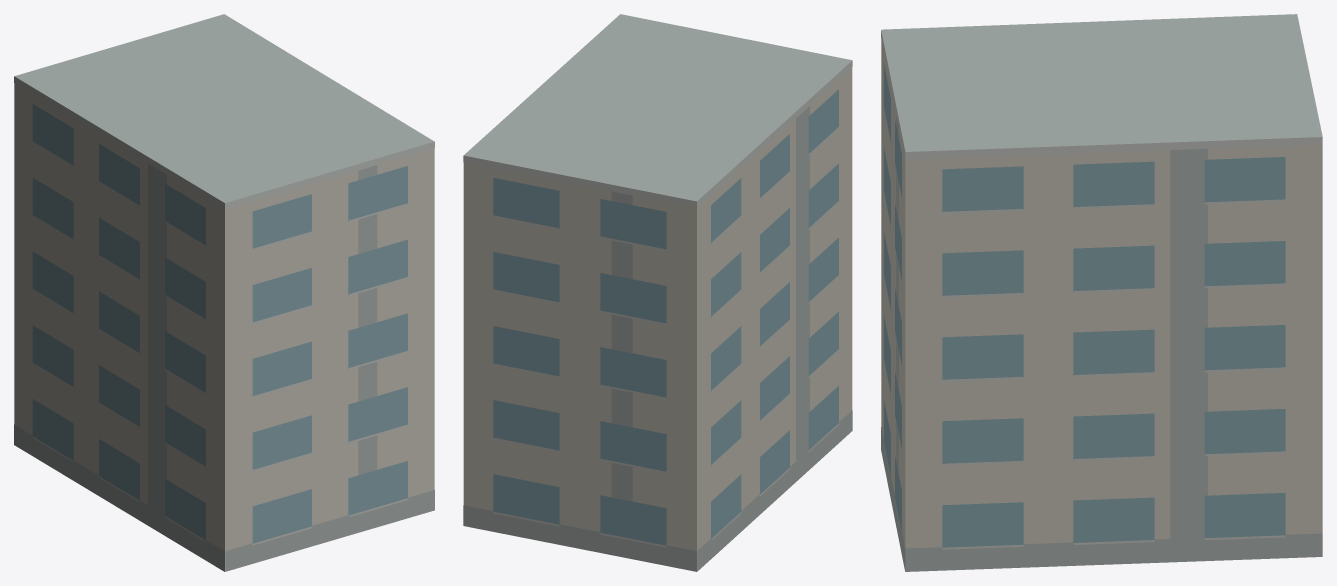
File: survey-upis-32537654.glb
3 views of the same model, side by side, from view 1: azimuth 30°, elevation 25°; view 2: azimuth 150°, elevation 25°; view 3: azimuth 270°, elevation 25° (orthographic). The views are drawn at different scales.
Parts seen in each view (by area): view 1: survey-upis-32537654.tmp; view 2: survey-upis-32537654.tmp; view 3: survey-upis-32537654.tmp.
Boxes of the visible parts, box(x1,y1,x2,y2) form: survey-upis-32537654.tmp: box(14, 14, 434, 571); survey-upis-32537654.tmp: box(463, 14, 852, 571); survey-upis-32537654.tmp: box(881, 14, 1322, 571).
Bounding box in the file's own units: 9.39 × 13.3 × 12.69.
